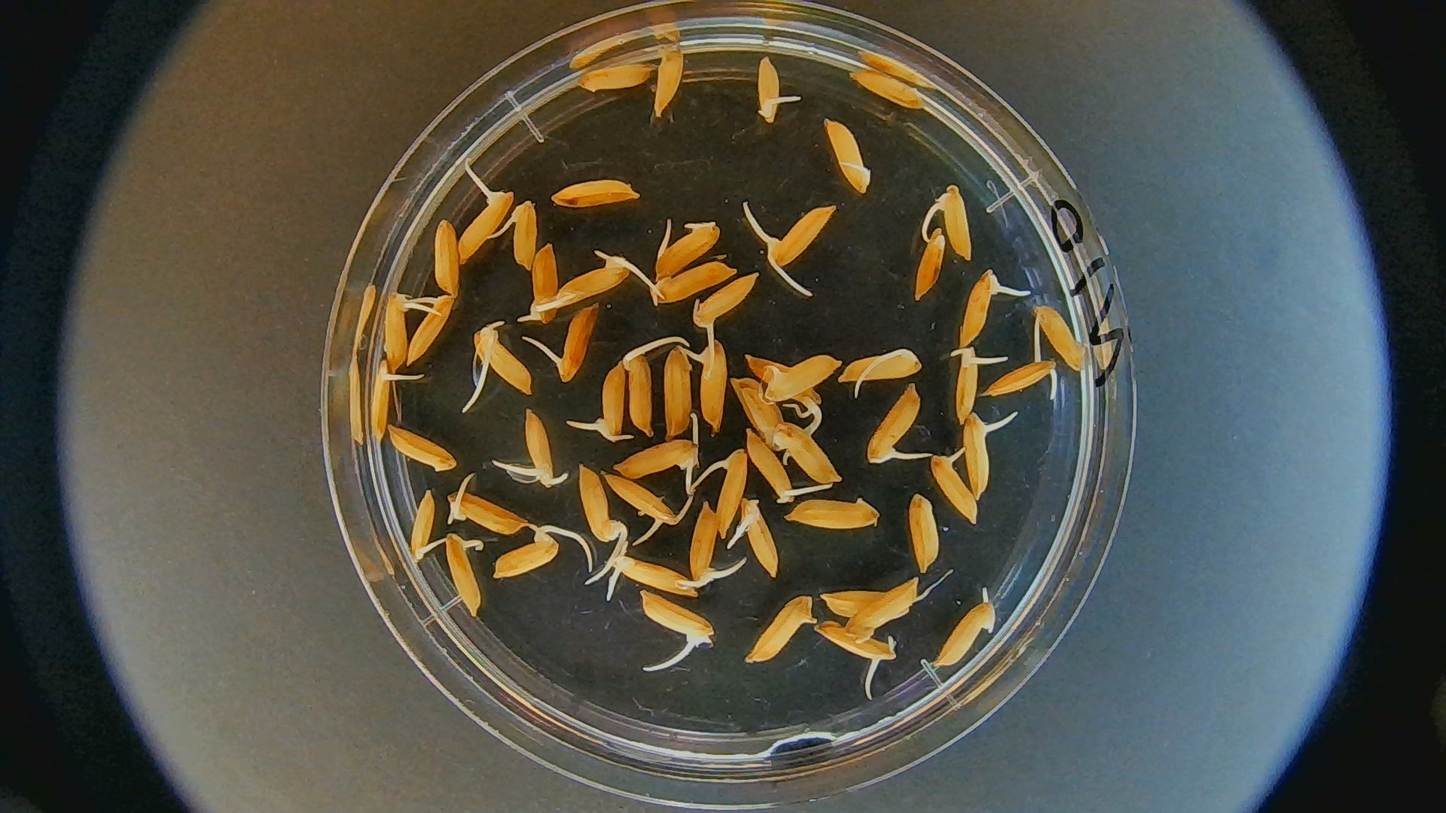no: (746, 591, 817, 662), (775, 421, 842, 483), (764, 353, 842, 406), (731, 376, 789, 447), (847, 578, 918, 633), (1032, 303, 1085, 376), (850, 65, 927, 112), (385, 425, 456, 474), (935, 600, 991, 661), (786, 498, 882, 530), (661, 345, 694, 438), (908, 492, 943, 575), (550, 177, 642, 208), (912, 226, 947, 303), (653, 44, 687, 122), (575, 61, 659, 91), (434, 218, 459, 300), (826, 585, 886, 615)
yes: (603, 473, 685, 534), (746, 430, 813, 504), (865, 379, 921, 466), (576, 462, 629, 547), (611, 437, 702, 486), (819, 116, 874, 197), (692, 274, 764, 334), (456, 184, 510, 263), (650, 258, 737, 307), (654, 216, 721, 279), (548, 302, 599, 382), (579, 360, 628, 442), (641, 589, 716, 642), (611, 553, 697, 599), (551, 260, 635, 306), (770, 206, 834, 265), (929, 452, 981, 523), (735, 496, 778, 579), (712, 449, 752, 538), (444, 532, 484, 620), (490, 531, 560, 581), (691, 337, 727, 434), (958, 269, 1001, 349), (690, 500, 731, 583), (453, 489, 529, 533), (406, 292, 451, 365), (477, 330, 531, 388), (523, 241, 559, 327), (813, 623, 898, 659), (837, 348, 921, 384), (936, 182, 973, 263), (523, 408, 559, 489), (622, 345, 654, 436), (962, 410, 996, 494), (984, 359, 1058, 394), (954, 344, 985, 426), (368, 363, 399, 442), (382, 291, 413, 365), (509, 199, 540, 269), (409, 488, 438, 562), (757, 56, 786, 125)
